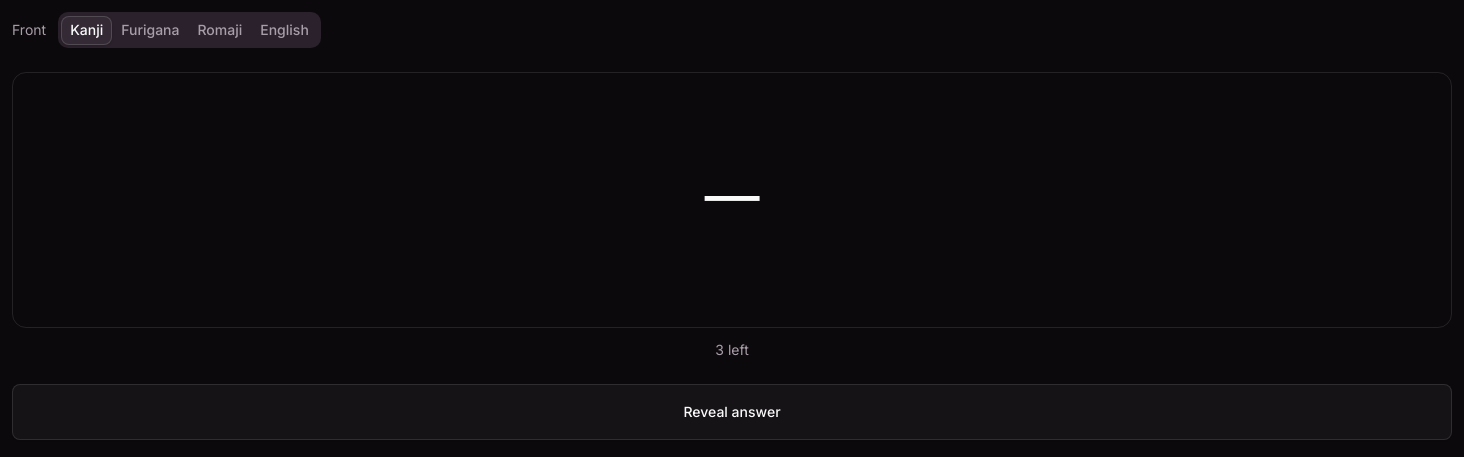
it: Flashcards › flipping › swaps to the back and relabels the card
The width and height of the screenshot is (1464, 457).
Expected: the button named "Flip to the answer" is shown, [12,72,1452,328]
Click the button "Reveal answer": (732, 412) [12,384,1452,440]
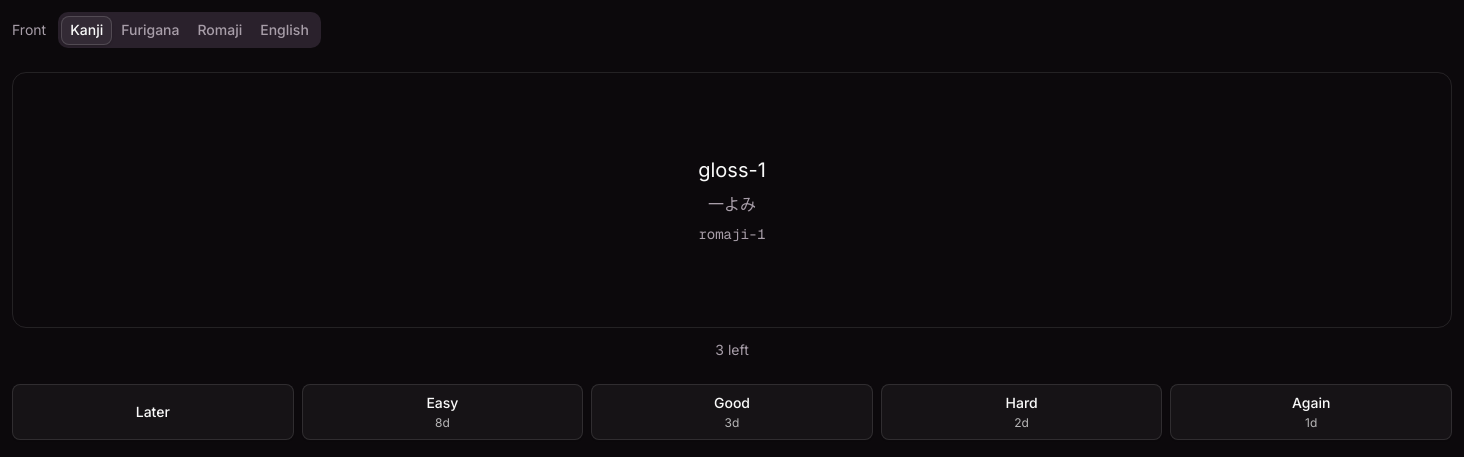
Expected: the text "gloss-1" is shown, [698,156,766,184]
Expected: the button with aria-label "Flip back to the front" is shown, [12,72,1452,328]
